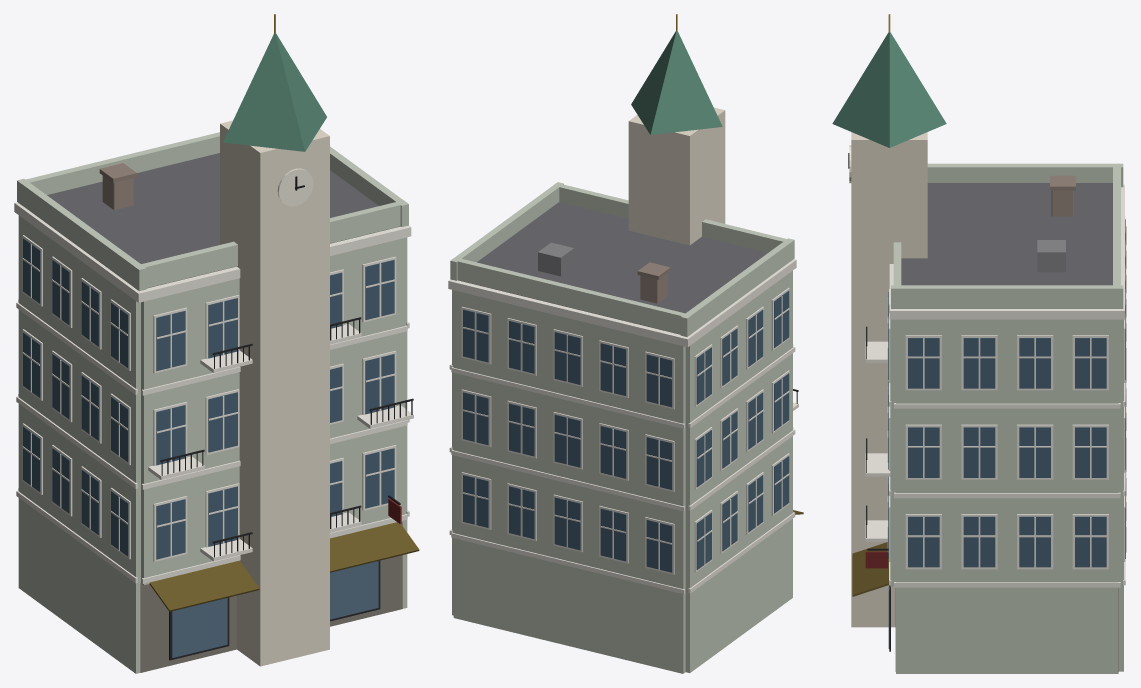
Rendered from townhall_4.glb.
3 renders of one model, left to right at view 1: azimuth 30°, elevation 25°; view 2: azimuth 150°, elevation 25°; view 3: azimuth 270°, elevation 25°, orthographic. The views are drawn at different scales.
Visible parts, largest first — view 1: townhall4_plaster, townhall4_glass, townhall4_stone, townhall4_wood, townhall4_tiles, townhall4_cloth, townhall4_iron, townhall4_brick; view 2: townhall4_plaster, townhall4_glass, townhall4_wood, townhall4_stone, townhall4_tiles, townhall4_iron, townhall4_brick; view 3: townhall4_plaster, townhall4_glass, townhall4_wood, townhall4_stone, townhall4_tiles, townhall4_iron, townhall4_cloth, townhall4_brick.
Boxes of the visible parts, <box> form: townhall4_plaster: <box>17,120,408,673</box>; townhall4_glass: <box>23,238,394,657</box>; townhall4_stone: <box>14,168,413,672</box>; townhall4_wood: <box>22,235,401,660</box>; townhall4_tiles: <box>223,33,326,151</box>; townhall4_cloth: <box>149,522,419,611</box>; townhall4_iron: <box>160,14,413,557</box>; townhall4_brick: <box>99,163,136,209</box>; townhall4_plaster: <box>450,107,794,673</box>; townhall4_glass: <box>463,290,789,572</box>; townhall4_wood: <box>461,287,789,574</box>; townhall4_stone: <box>448,259,798,671</box>; townhall4_tiles: <box>631,31,722,134</box>; townhall4_iron: <box>538,14,798,403</box>; townhall4_brick: <box>637,262,670,303</box>; townhall4_plaster: <box>851,132,1123,673</box>; townhall4_glass: <box>888,219,1125,648</box>; townhall4_wood: <box>865,216,1126,651</box>; townhall4_stone: <box>849,145,1125,671</box>; townhall4_tiles: <box>832,32,946,147</box>; townhall4_iron: <box>848,14,1065,550</box>; townhall4_cloth: <box>852,542,888,596</box>; townhall4_brick: <box>1050,175,1075,216</box>.
Size of the model in its own units: 9.51 by 20.7 by 9.25.
